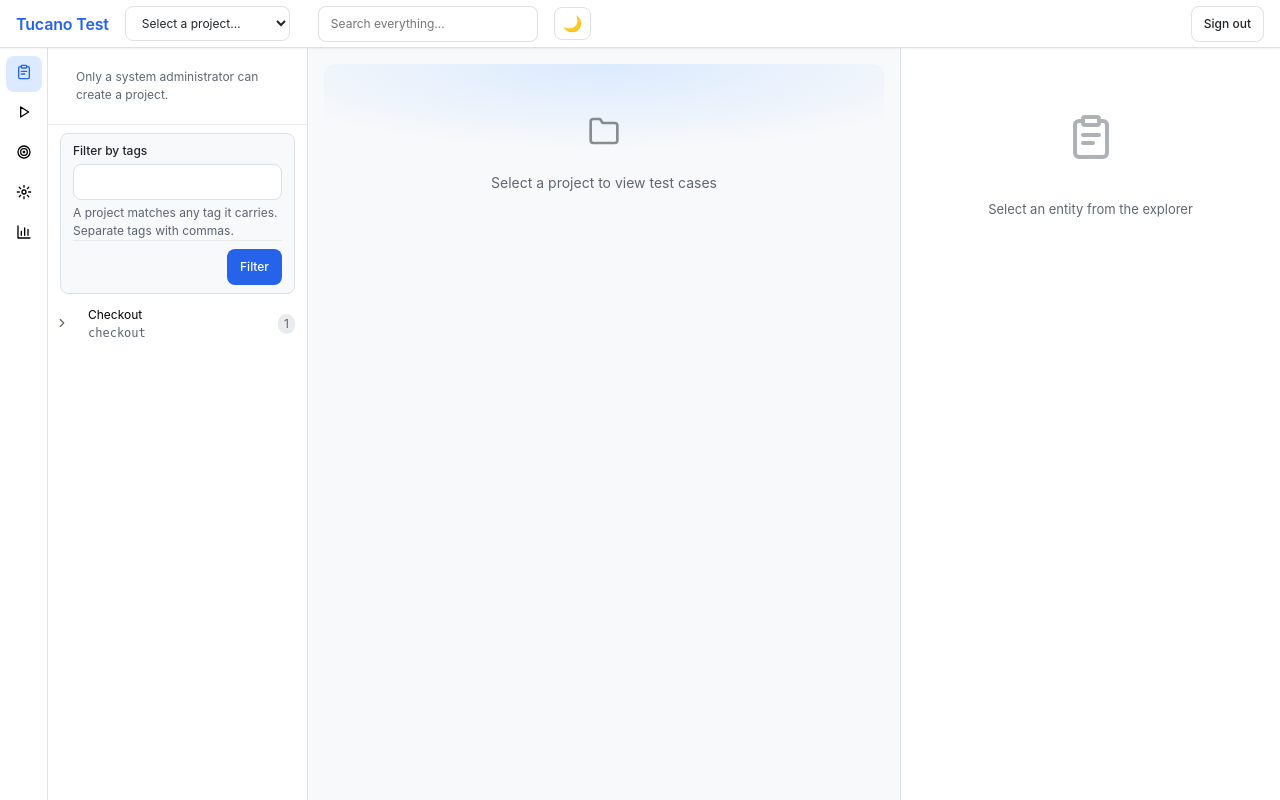
Test: AppShell › mounts the suite tree in the left pane once a project is active
Expected: the element named "Project explorer" is shown, [48, 48, 308, 799]
Step 1. Select "Checkout (checkout)" in the dropdown named "Active project" → (207, 24), box [125, 6, 290, 41]
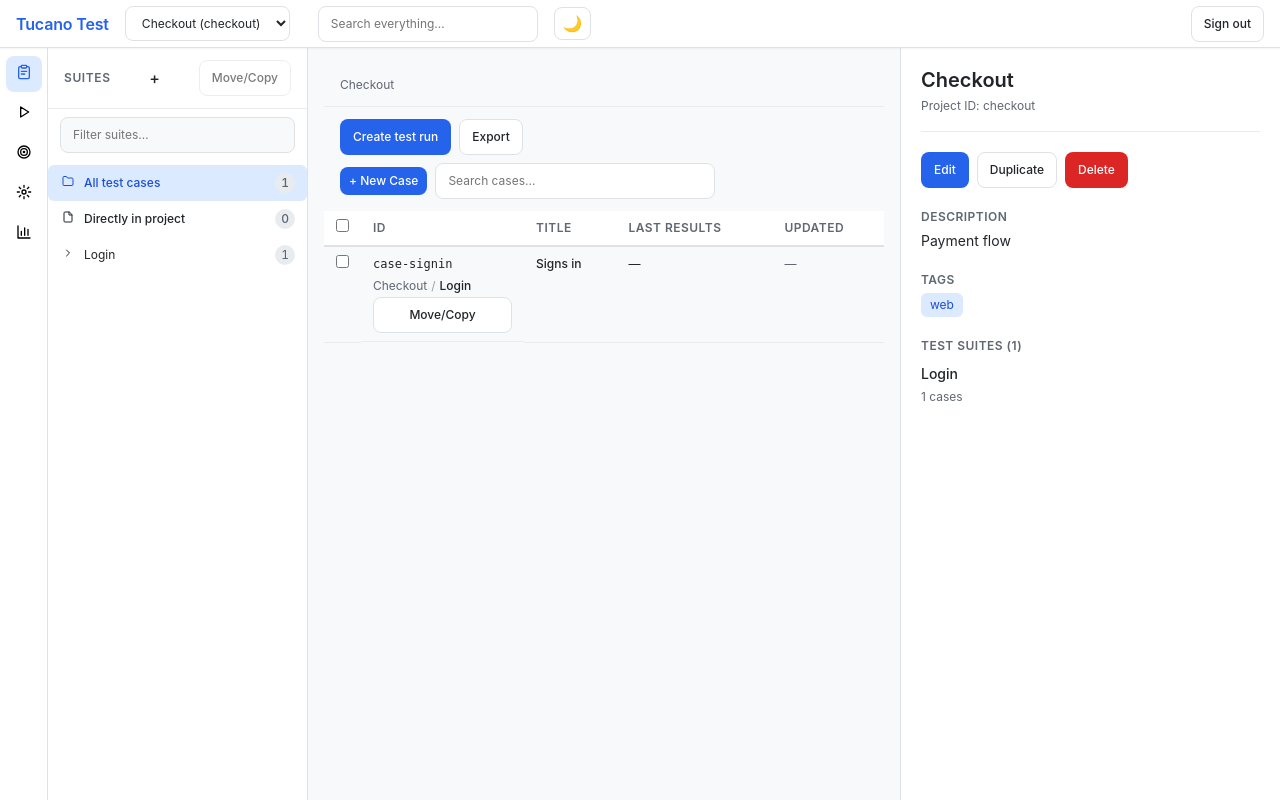
Expected: the navigation bar "Project explorer" is gone
Expected: the heading "Suites" is shown, [64, 69, 111, 87]
Expected: the button "All test cases 1" is shown, [48, 165, 307, 201]
Step 2. Click the button "Login 1" → click(178, 255), box [48, 237, 307, 273]
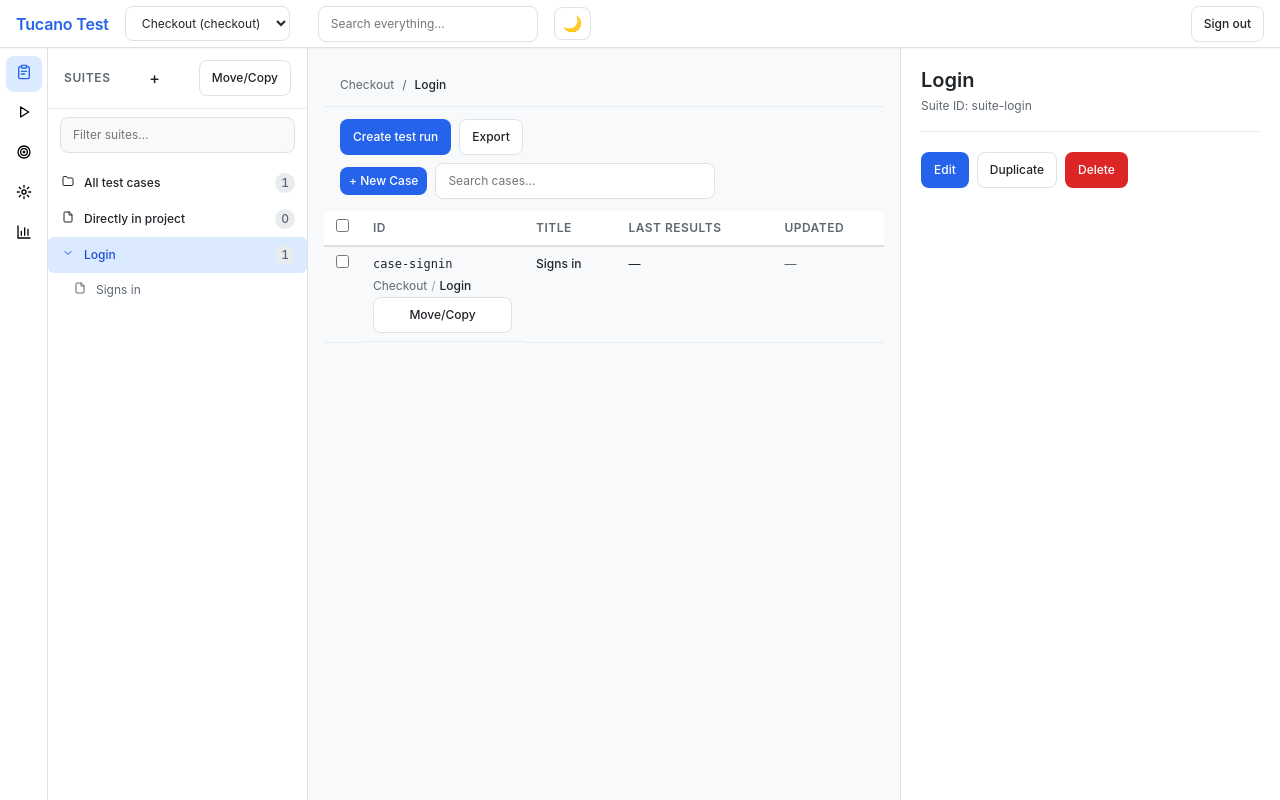
Expected: the heading "Login" is shown, [921, 68, 974, 92]
